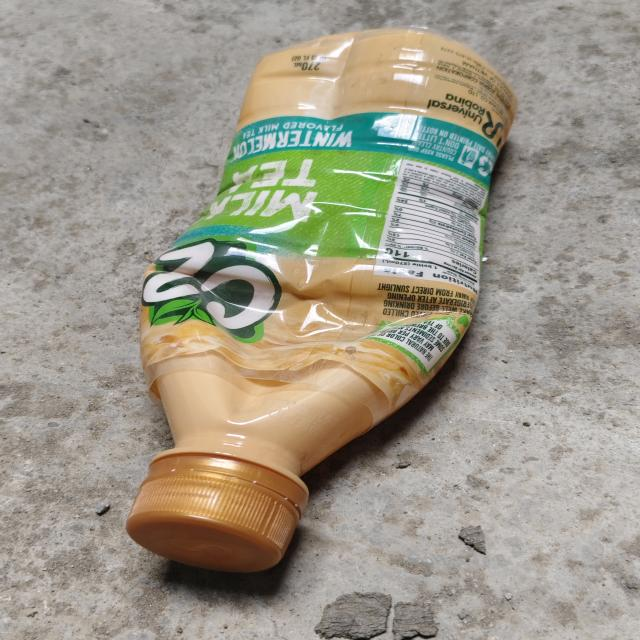Bottle: (127, 28, 517, 570)
